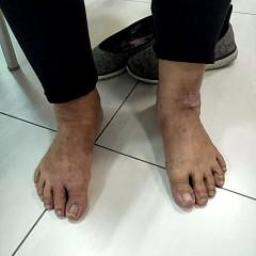Dorsal View -Both Feet-: (20, 67, 246, 233)
